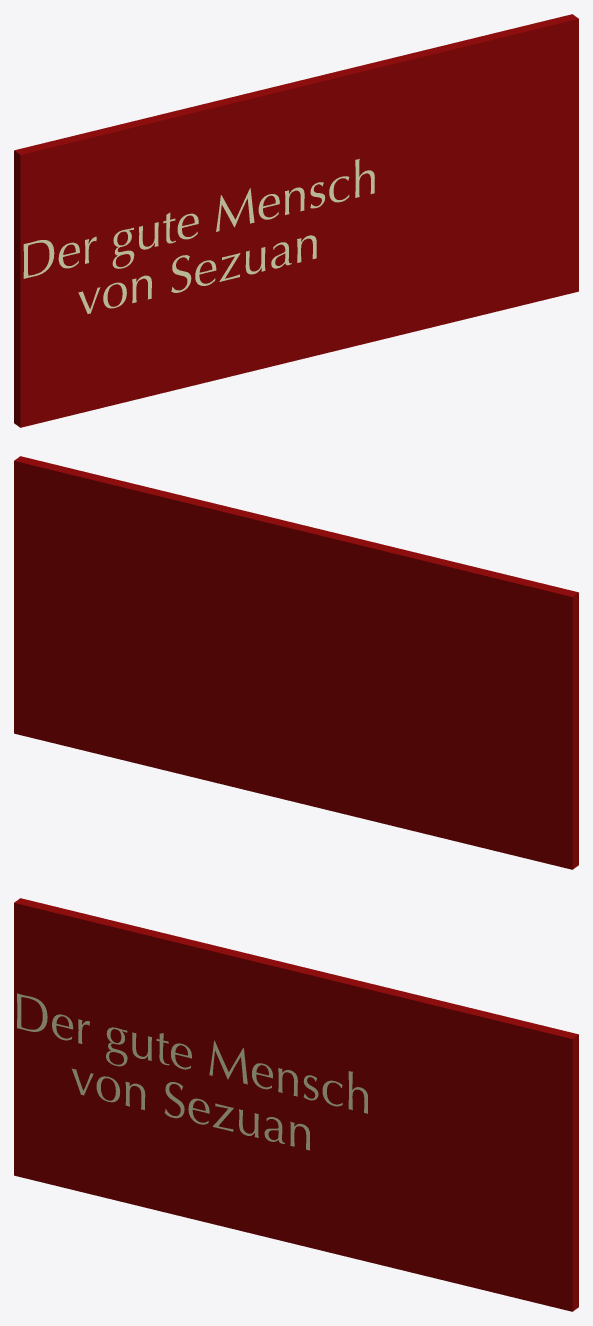
The model's file is tor_mit_schrift.dae.
3 renders of one model, top to bottom at view 1: azimuth 30°, elevation 25°; view 2: azimuth 150°, elevation 25°; view 3: azimuth 330°, elevation 25°, orthographic.
Visible parts, largest first — view 1: SketchUp; view 2: SketchUp; view 3: SketchUp.
Part boxes in pixels (<box>): SketchUp: <box>14,14,578,427</box>; SketchUp: <box>14,456,578,869</box>; SketchUp: <box>14,898,578,1311</box>.
Size of the model in its own units: 591 by 12.05 by 276.
